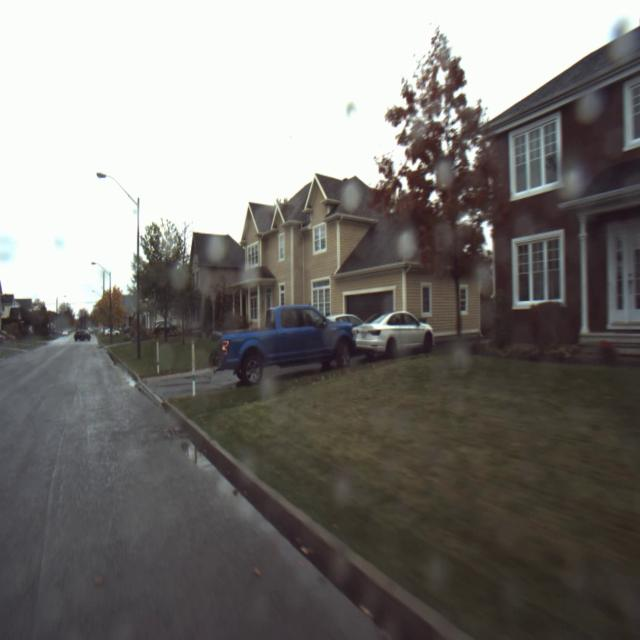car: (208, 294, 362, 405)
